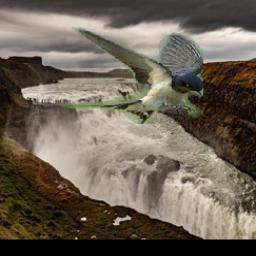Swallow: (62, 27, 203, 125)
